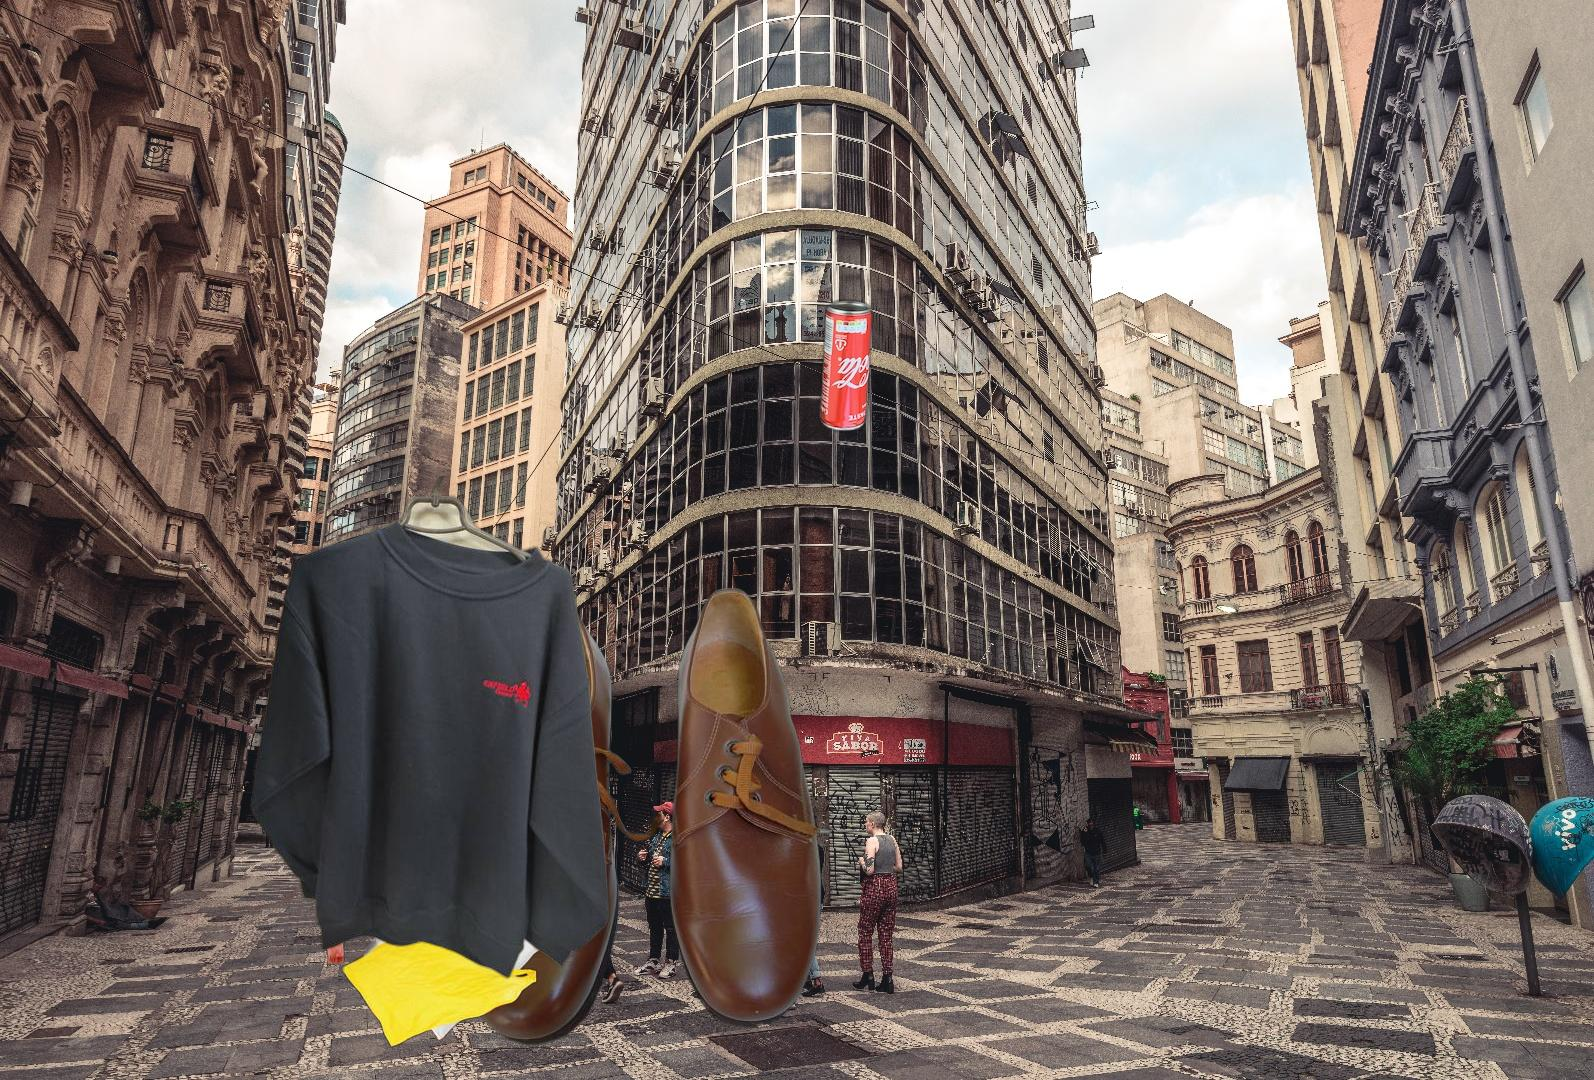clothes: (247, 476, 613, 982)
metal-cans: (814, 294, 877, 438)
plastic-bag: (313, 774, 570, 1050), (314, 798, 467, 993)
shoes: (460, 583, 834, 1049)
